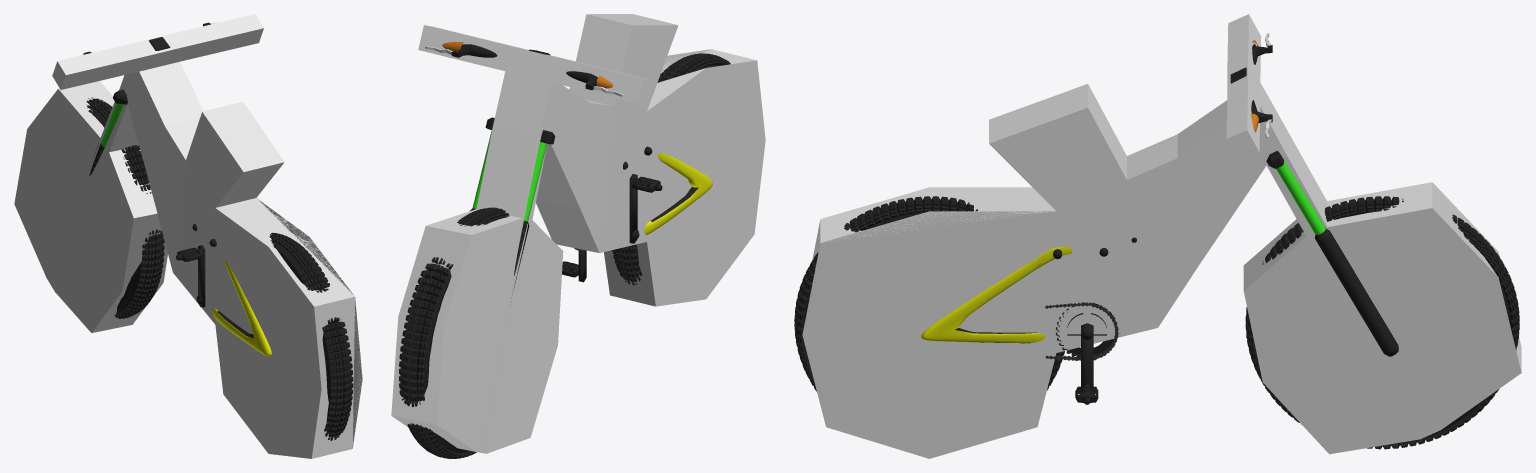
The model's file is Mountain_Bike.fbx.
The picture shows the model from 3 angles, left to right: view 1: azimuth 30°, elevation 25°; view 2: azimuth 150°, elevation 25°; view 3: azimuth 270°, elevation 25°; orthographic projection. The views are drawn at different scales.
Visible parts, largest first — view 1: Cube, ban_belakang, ban_depan, rangka, stank, gear_depan; view 2: Cube, ban_depan, stank, ban_belakang, rangka, gear_depan; view 3: Cube, ban_depan, stank, ban_belakang, rangka, gear_depan.
Part boxes in pixels (x1,y1,x2,y2): Cube: [14, 14, 362, 458]; ban_belakang: [269, 232, 353, 440]; ban_depan: [86, 97, 164, 318]; rangka: [192, 224, 271, 355]; stank: [81, 22, 217, 175]; gear_depan: [176, 245, 205, 307]; Cube: [391, 14, 765, 453]; ban_depan: [399, 207, 509, 458]; stank: [425, 42, 623, 298]; ban_belakang: [612, 53, 730, 285]; rangka: [623, 146, 712, 234]; gear_depan: [562, 174, 662, 282]; Cube: [802, 14, 1521, 458]; ban_depan: [1245, 196, 1519, 449]; stank: [1230, 33, 1398, 356]; ban_belakang: [794, 196, 1064, 391]; rangka: [921, 237, 1136, 343]; gear_depan: [1055, 302, 1117, 404].
Size of the model in its own units: 484 by 737 by 1288.
